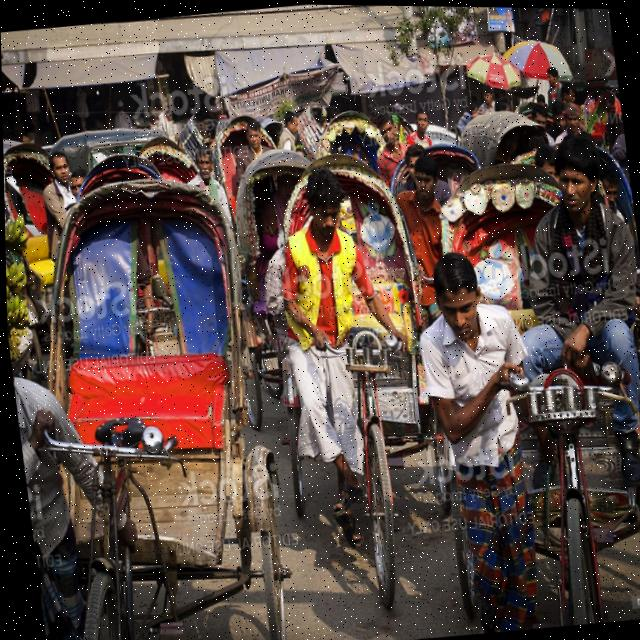rikshaw: (2, 137, 276, 640), (397, 140, 640, 636), (250, 145, 450, 603), (343, 122, 520, 468), (2, 140, 112, 358)
